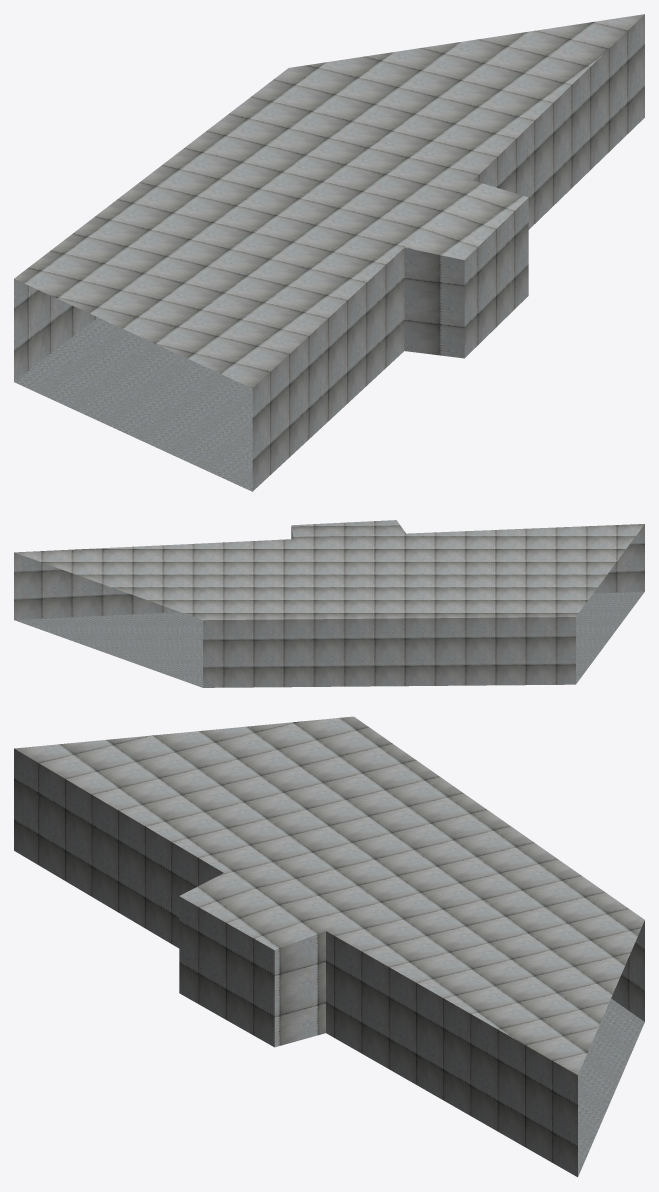
The model's file is south2.FBX.
3 renders of one model, top to bottom at view 1: azimuth 30°, elevation 25°; view 2: azimuth 150°, elevation 25°; view 3: azimuth 270°, elevation 25°, orthographic. The views are drawn at different scales.
Visible parts, largest first — view 1: Object003; view 2: Object003; view 3: Object003.
Boxes of the visible parts, x1,y1,x2,y2 form: Object003: (14, 14, 644, 491); Object003: (14, 520, 644, 687); Object003: (14, 716, 644, 1177).
Bounding box in the file's own units: 558 × 74.12 × 415.
Materials: 2 (2 with a texture image).
